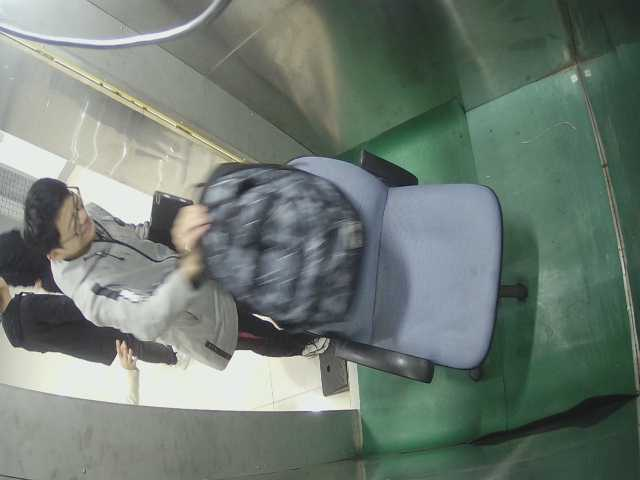bag: (174, 147, 353, 329)
chair: (267, 143, 528, 392)
person: (21, 169, 270, 373)
